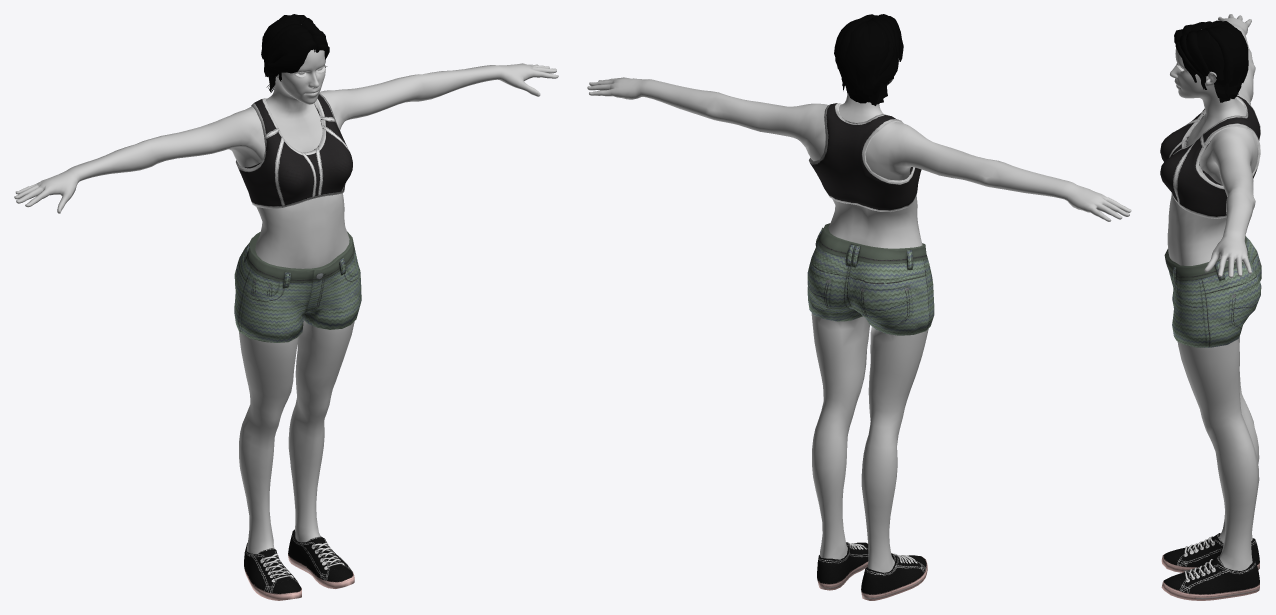
Rendered from first_clothes_hair.obj.
3 views of the same model, side by side, from view 1: azimuth 30°, elevation 25°; view 2: azimuth 150°, elevation 25°; view 3: azimuth 270°, elevation 25° (orthographic).
Visible parts, largest first — view 1: Body, Bottoms, Tops, Shoes, Hair; view 2: Body, Bottoms, Tops, Hair, Shoes; view 3: Body, Bottoms, Tops, Shoes, Hair.
Boxes of the visible parts, x1,y1,x2,y2 form: Body: [14, 49, 558, 553]; Bottoms: [234, 231, 361, 342]; Tops: [236, 93, 352, 208]; Shoes: [244, 529, 354, 600]; Hair: [261, 14, 329, 92]; Body: [587, 58, 1131, 572]; Bottoms: [807, 223, 934, 335]; Tops: [809, 103, 921, 211]; Hair: [834, 14, 903, 105]; Shoes: [817, 542, 927, 600]; Body: [1167, 14, 1259, 570]; Bottoms: [1164, 236, 1261, 347]; Tops: [1160, 95, 1260, 218]; Shoes: [1161, 533, 1259, 600]; Hair: [1174, 20, 1248, 102].
Bounding box in the file's own units: 17.95 × 17.75 × 2.93.
